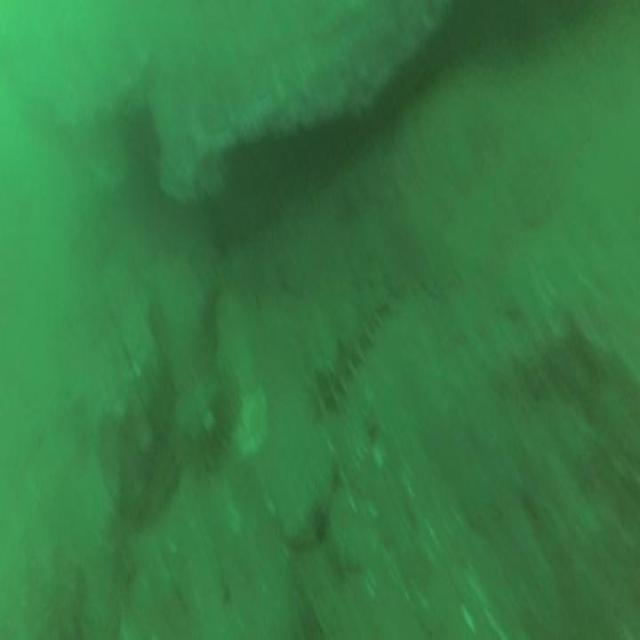holothurian: (304, 272, 404, 414)
